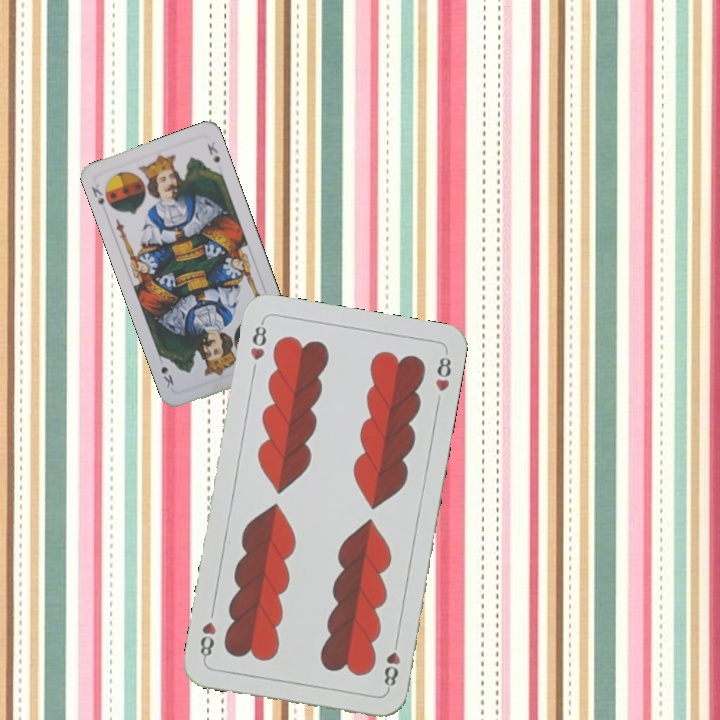H8: (380, 634, 403, 693), (246, 317, 269, 363)
SK: (87, 180, 110, 217)
